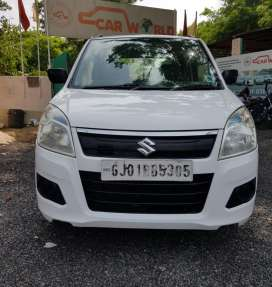nameplate: (100, 160, 193, 180)
